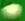white: (0, 0, 25, 21)
